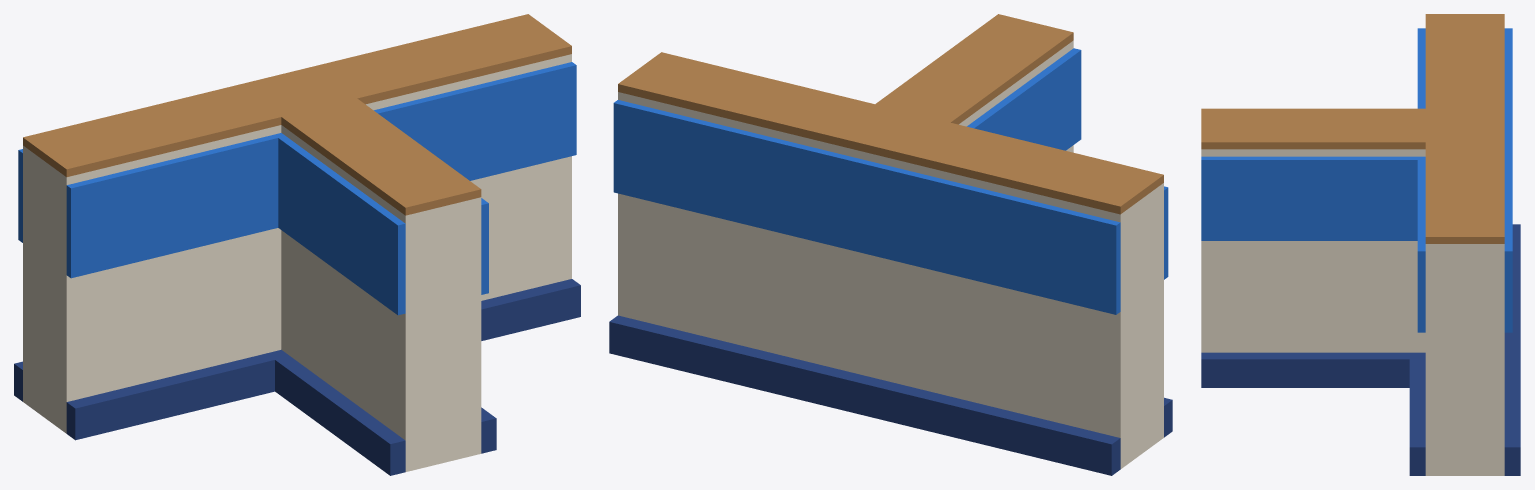
File: partition-tee.glb
The picture shows the model from 3 angles, left to right: view 1: azimuth 30°, elevation 25°; view 2: azimuth 150°, elevation 25°; view 3: azimuth 270°, elevation 25°; orthographic projection. The views are drawn at different scales.
Parts seen in each view (by area): view 1: partition-tee; view 2: partition-tee; view 3: partition-tee.
Boxes of the visible parts, x1,y1,x2,y2 form: partition-tee: (14, 14, 580, 475); partition-tee: (609, 14, 1172, 475); partition-tee: (1201, 14, 1520, 475).
Bounding box in the file's own units: 1 × 0.5 × 0.605.
Materials: 1 (1 with a texture image).
